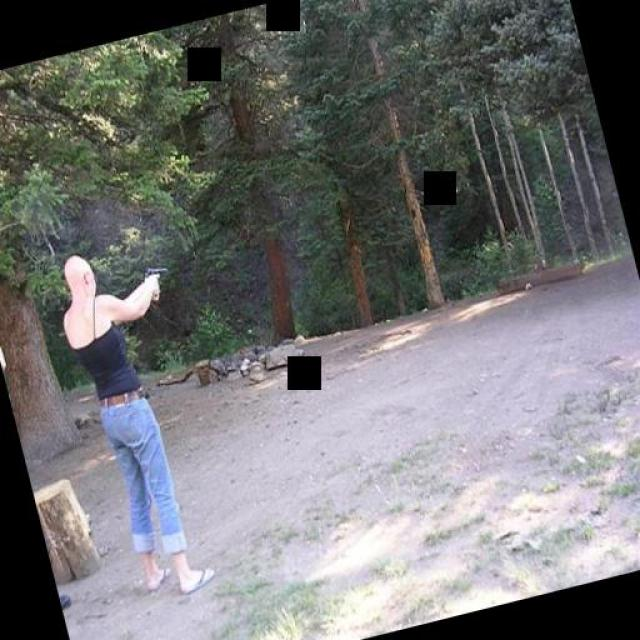gun: (140, 257, 174, 295)
